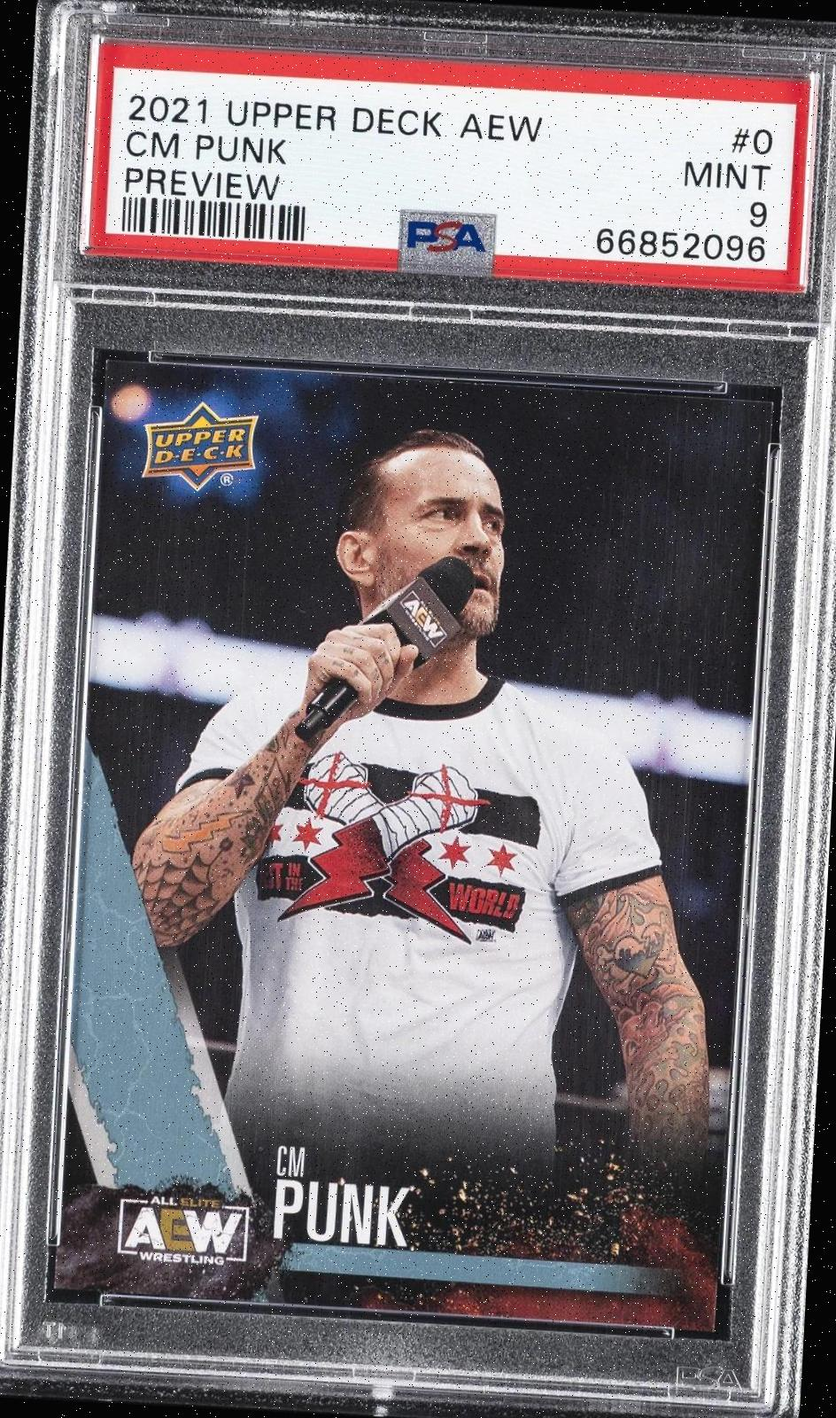card-2UtV: (53, 359, 774, 1333)
